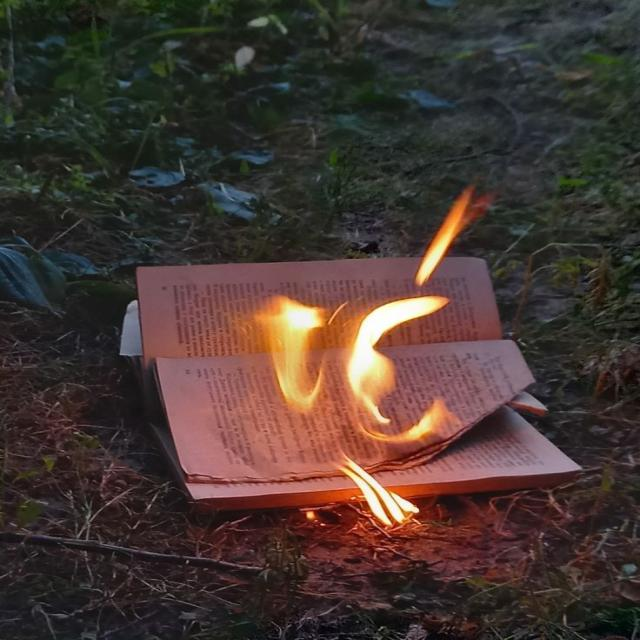fire: (347, 294, 449, 443), (254, 294, 326, 410), (416, 184, 472, 284), (343, 459, 418, 526)
